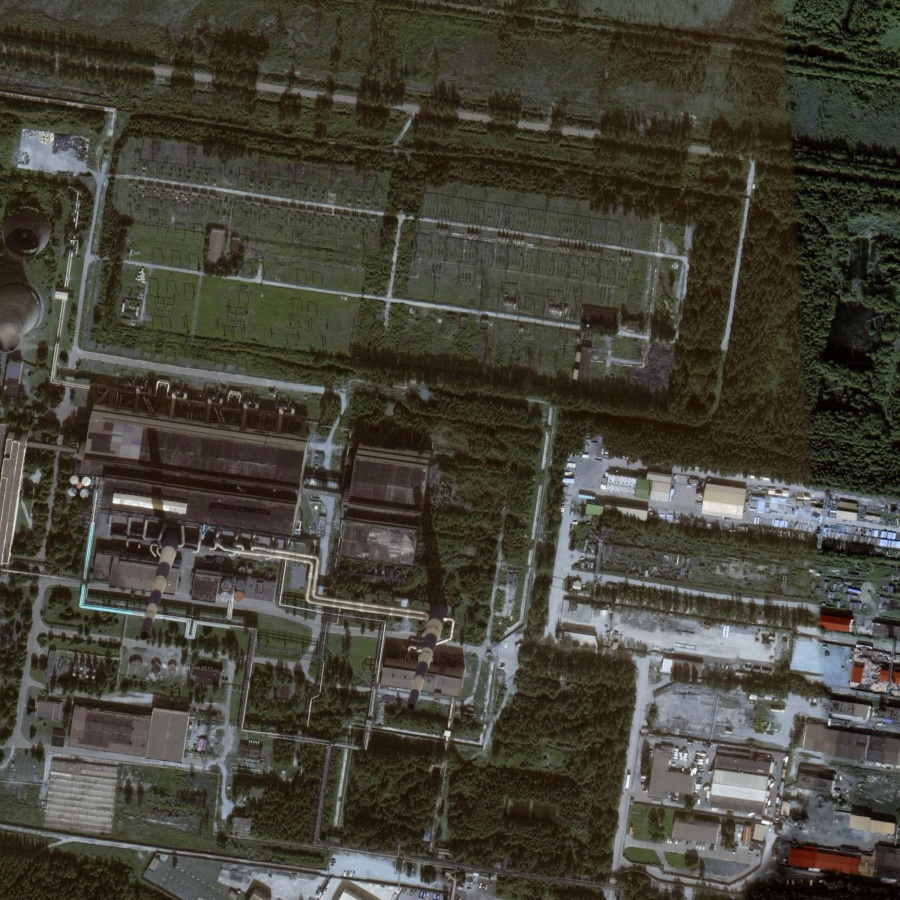PowerPlant: (93, 406, 451, 727)
